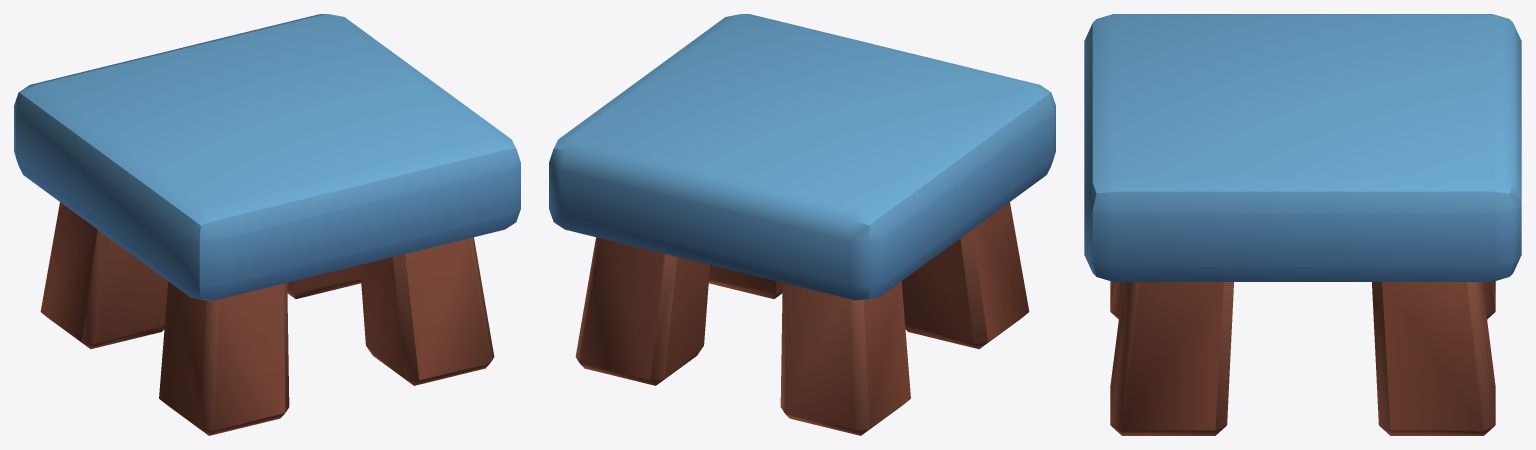
The model's file is pall.glb.
3 renders of one model, left to right at view 1: azimuth 30°, elevation 25°; view 2: azimuth 150°, elevation 25°; view 3: azimuth 270°, elevation 25°, orthographic. The views are drawn at different scales.
Visible parts, largest first — view 1: chair_stool; view 2: chair_stool; view 3: chair_stool.
Part boxes in pixels (x1,y1,x2,y2): chair_stool: (14, 14, 520, 435); chair_stool: (549, 14, 1055, 435); chair_stool: (1084, 14, 1521, 435).
Bounding box in the file's own units: 0.75 × 0.5 × 0.75.
Materials: 1 (1 with a texture image).
